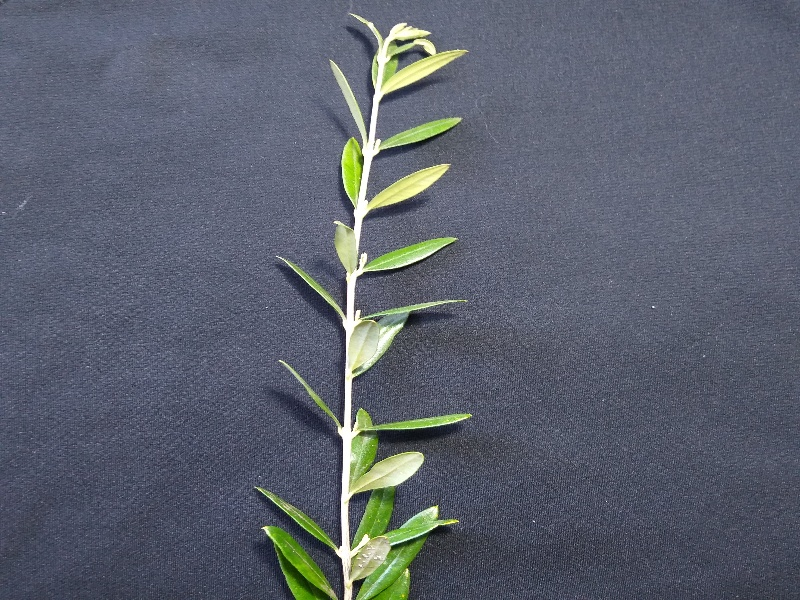yema: (334, 249, 380, 290), (329, 304, 373, 342), (326, 532, 370, 569), (326, 359, 376, 391), (324, 477, 371, 511), (343, 189, 379, 231), (330, 416, 367, 453), (355, 131, 391, 164), (367, 81, 392, 108), (377, 47, 394, 73)
